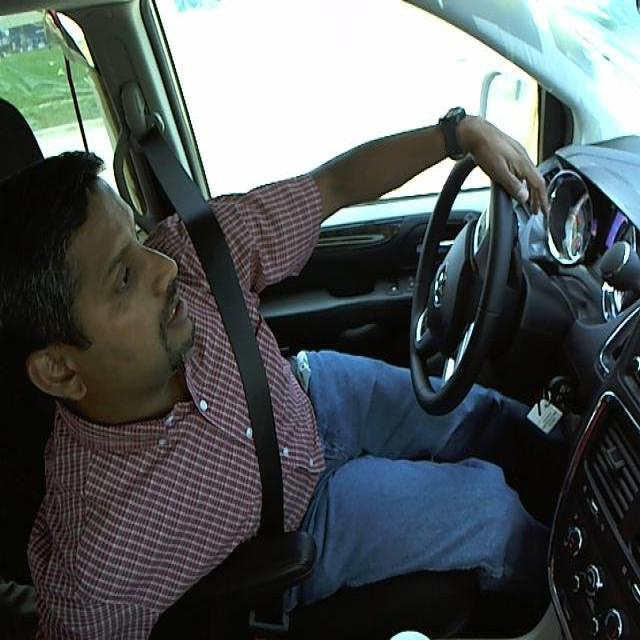seatbelt: (206, 261, 290, 547)
